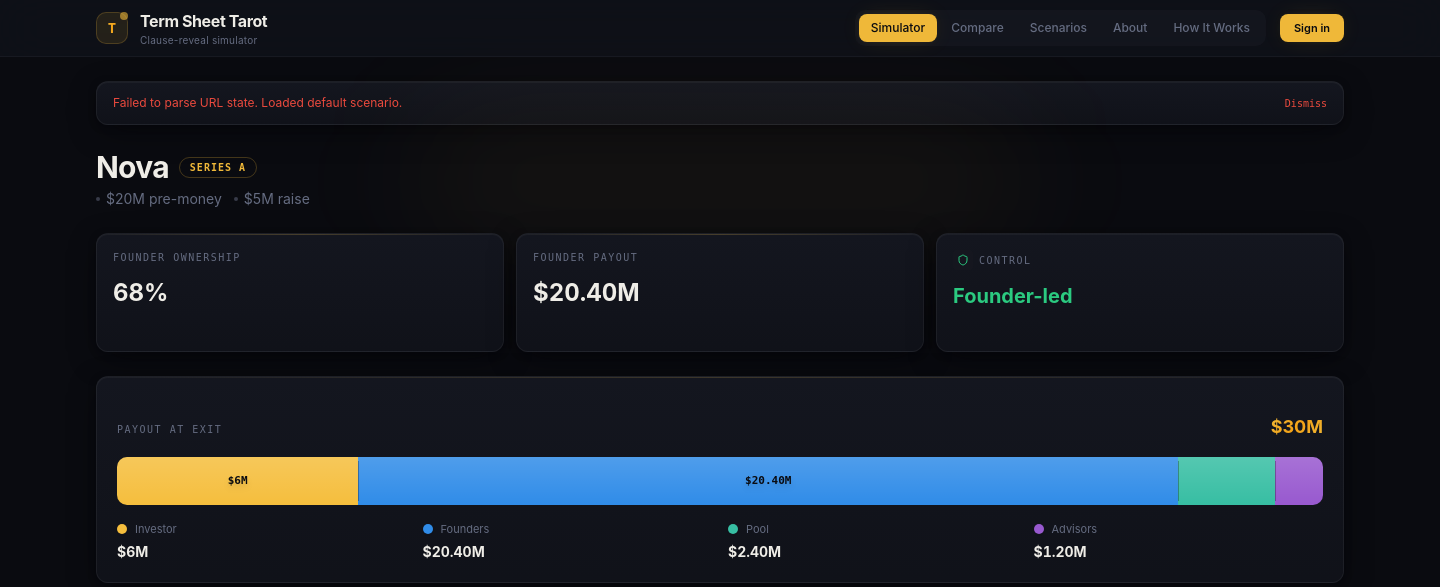
SimulatorPage › shows and dismisses a malformed URL warning
Check: the text "Failed to parse URL state. Loaded default scenario." is shown, box [113,94,402,112]
Click the button "Dismiss" at (1306, 103), box [1285,96,1327,110]
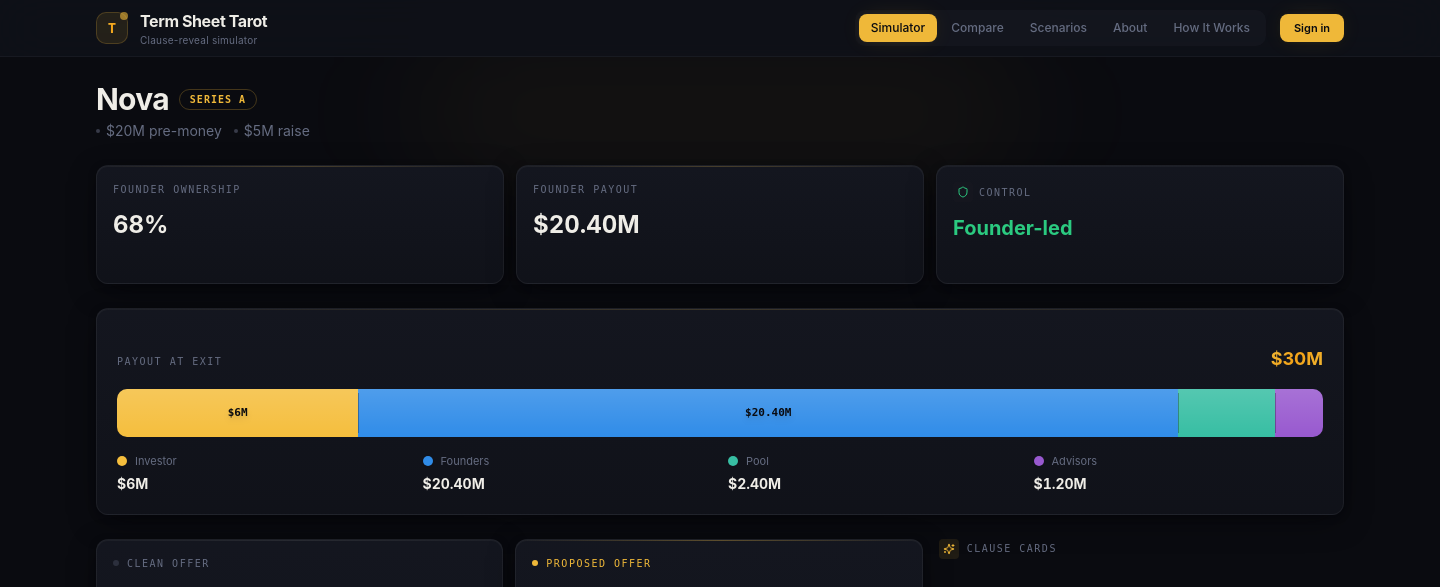
Check: the text "Failed to parse URL state. Loaded default scenario." is gone
